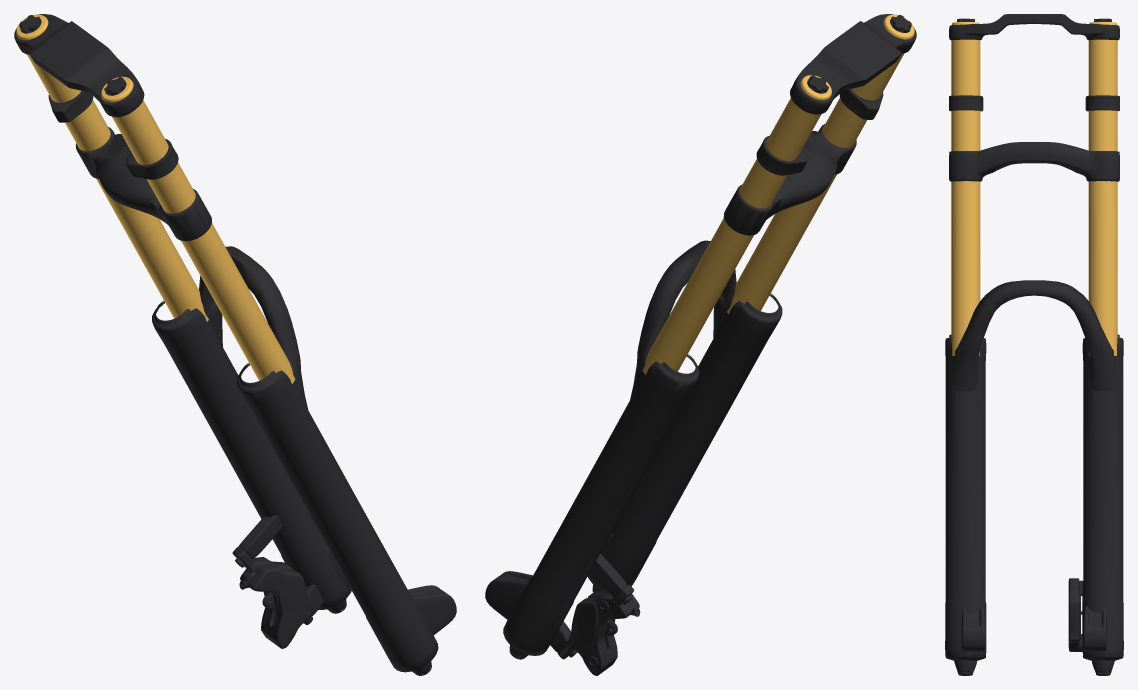
File: fuzz.glb
3 views of the same model, side by side, from view 1: azimuth 30°, elevation 25°; view 2: azimuth 150°, elevation 25°; view 3: azimuth 270°, elevation 25° (orthographic). The views are drawn at different scales.
Visible parts, largest first — view 1: fork_lower, fork_crown; view 2: fork_lower, fork_crown; view 3: fork_lower, fork_crown.
Part boxes in pixels (x1=…): fork_lower: x1=152, y1=246, x2=456, y2=675; fork_crown: x1=14, y1=14, x2=295, y2=383; fork_lower: x1=485, y1=240, x2=782, y2=675; fork_crown: x1=642, y1=14, x2=916, y2=374; fork_lower: x1=945, y1=280, x2=1123, y2=675; fork_crown: x1=949, y1=14, x2=1119, y2=355.
Bounding box in the file's own units: 0.4016 × 0.7169 × 0.2102.
